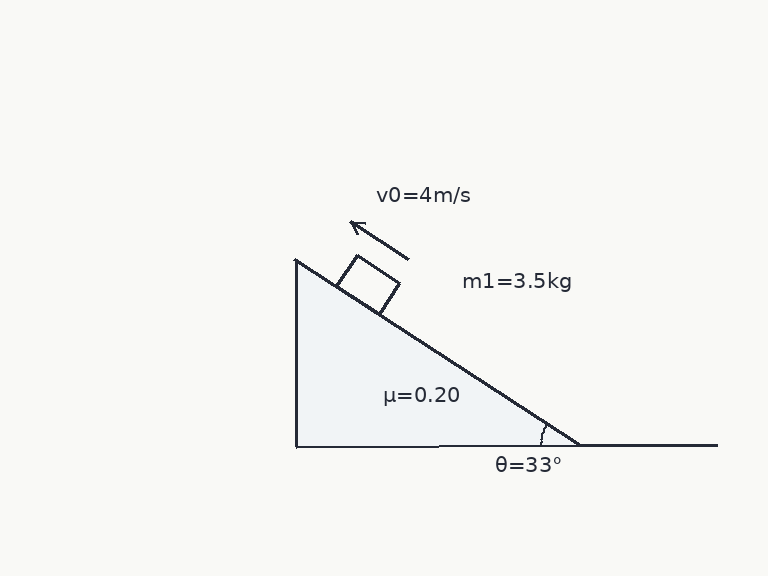block: (334, 252, 401, 316)
ramp: (293, 257, 583, 447)
